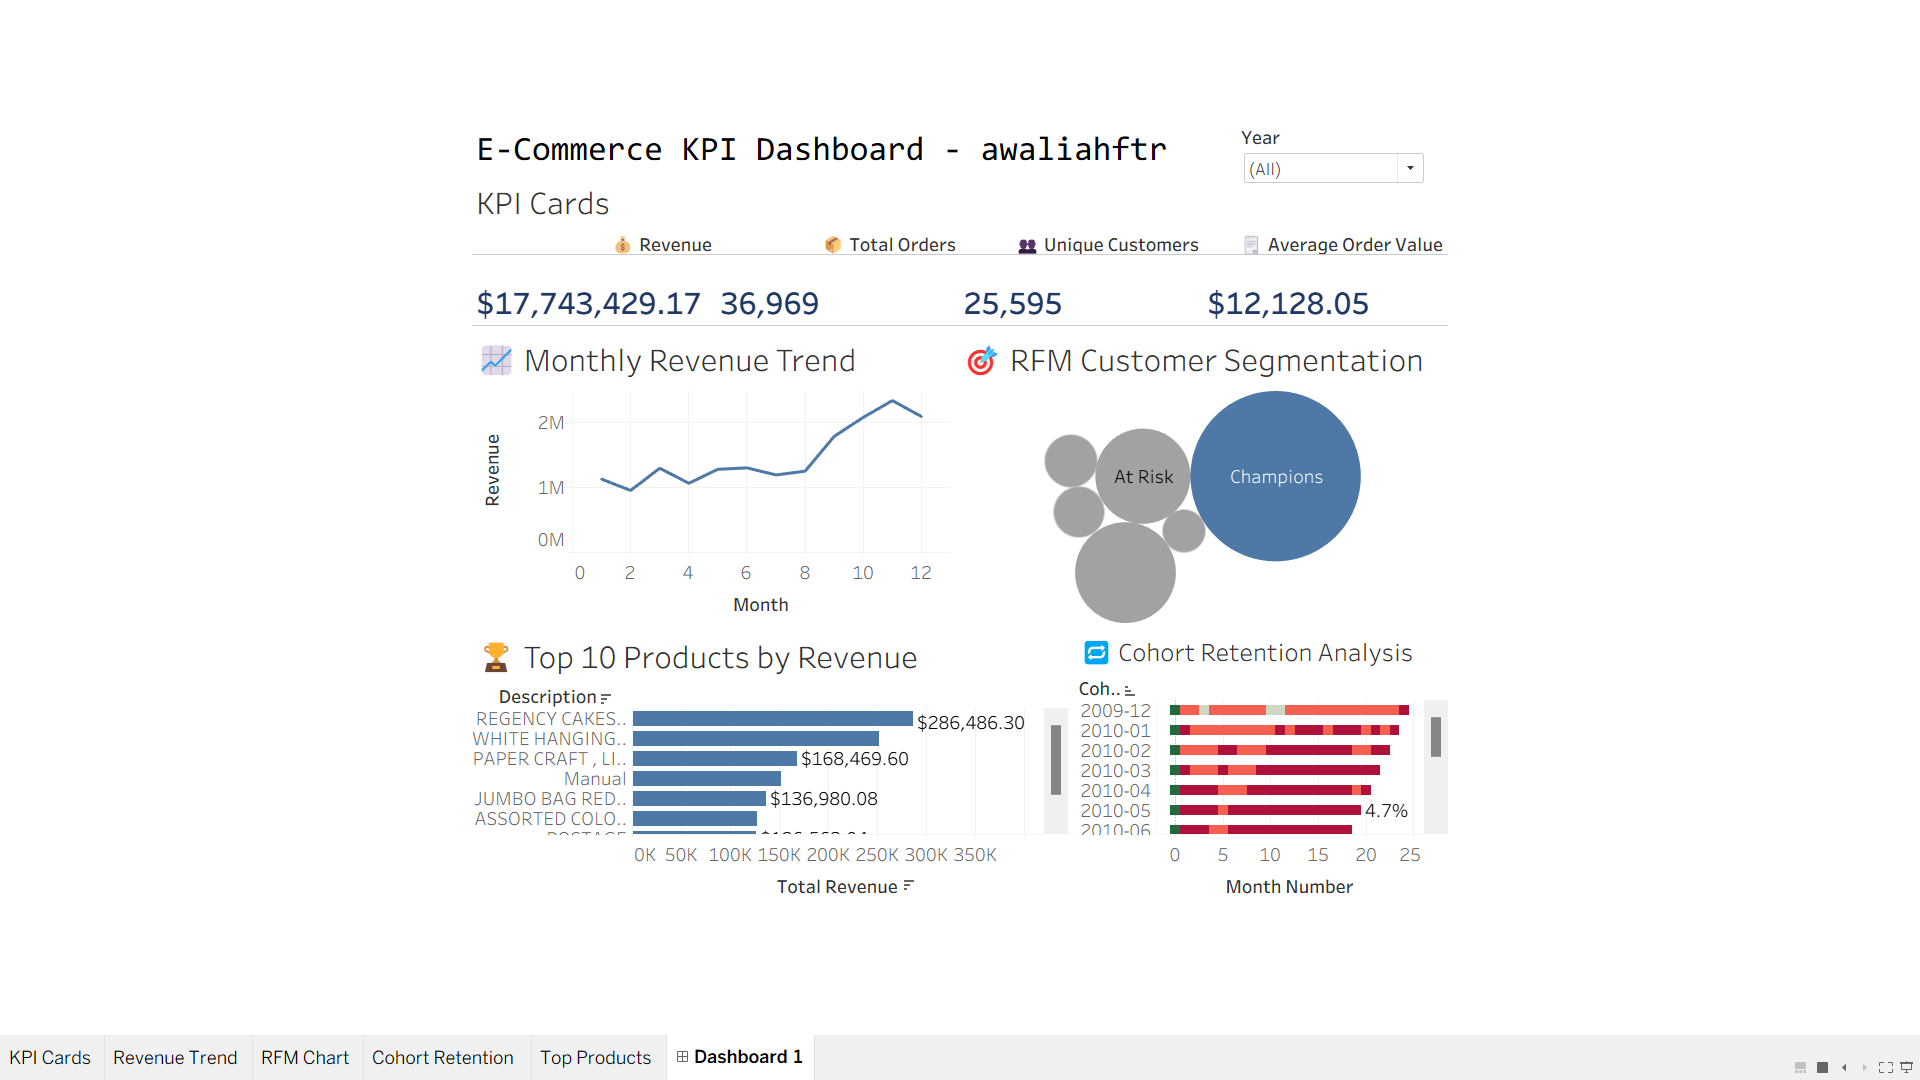

Layout of this report page (visuals, bound fields, positions):
{"tool":"tableau","page":{"name":"Dashboard 1","canvas":[1000,800],"ordinal":0},"visuals":[{"type":"filter","title":"Revenue Trend","param":"[federated.0myut1x1gupg6218b7rn31i4opty].[none:year:ok]","box":[781,7,186,74]},{"type":"title","box":[8,8,984,48]},{"type":"worksheet","title":"KPI Cards","mark":"Automatic","box":[8,56,984,157]},{"type":"worksheet","title":"Revenue Trend","mark":"Automatic","rows":["revenue"],"cols":["month"],"box":[8,213,486,297.4]},{"type":"worksheet","title":"RFM Chart","mark":"Circle","box":[494,213,498,297.4]},{"type":"worksheet","title":"Top Products","mark":"Automatic","rows":["description"],"cols":["total_revenue"],"box":[8,510.4,604,281.6]},{"type":"worksheet","title":"Cohort Retention","mark":"Square","rows":["cohort"],"cols":["month_number"],"box":[612,510.4,380,281.6]}]}

Visuals, with their boxes on the page's 1000x800 design canvas (x1, y1, x2, y2). These are canvas units, not pixel positions in the 1920x1080 screenshot, which may show the page scaled, cropped or inside an application window:
"Revenue Trend" filter: {"left": 781, "top": 7, "right": 967, "bottom": 81}
title: {"left": 8, "top": 8, "right": 992, "bottom": 56}
"KPI Cards" worksheet: {"left": 8, "top": 56, "right": 992, "bottom": 213}
"Revenue Trend" worksheet: {"left": 8, "top": 213, "right": 494, "bottom": 510}
"RFM Chart" worksheet (Circle marks): {"left": 494, "top": 213, "right": 992, "bottom": 510}
"Top Products" worksheet: {"left": 8, "top": 510, "right": 612, "bottom": 792}
"Cohort Retention" worksheet (Square marks): {"left": 612, "top": 510, "right": 992, "bottom": 792}
